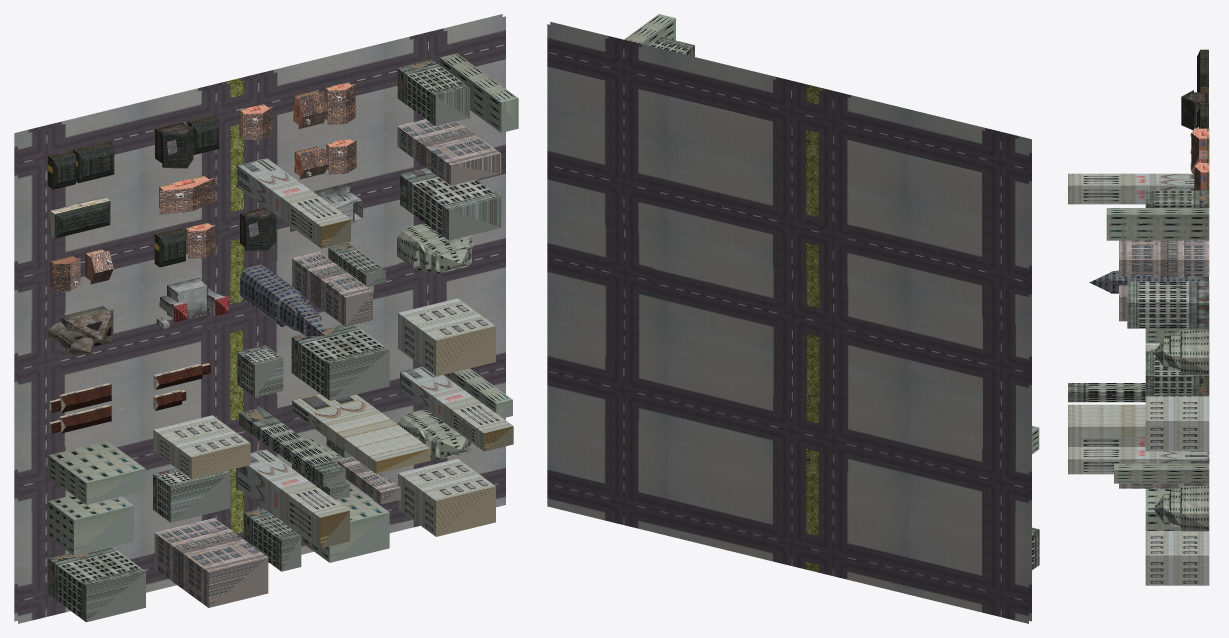
The model's file is city1test1100p_wtf.obj.
3 views of the same model, side by side, from view 1: azimuth 30°, elevation 25°; view 2: azimuth 150°, elevation 25°; view 3: azimuth 270°, elevation 25° (orthographic). The views are drawn at different scales.
Parts seen in each view (by area): view 1: group2, group69, group59, group3, group71, group72, group74, group75, group18, group5, group19, group58 (+39 smaller); view 2: group166, group2, group17; view 3: group18, group71, group72, group17, group5, group19, group58, group59, group57, group62, group74, group139 (+14 smaller).
Boxes of the visible parts, x1,y1,x2,y2 form: group2: (18,16,505,623); group69: (154,518,268,607); group59: (292,393,430,473); group3: (236,449,349,548); group71: (398,298,495,376); group72: (398,458,495,536); group74: (291,324,389,400); group75: (48,547,145,622); group18: (400,168,501,240); group5: (237,158,350,248); group19: (397,119,501,185); group58: (400,366,513,451); group166: (547,24,1028,623); group2: (550,22,1031,621); group17: (624,14,675,45); group18: (1127,281,1209,328); group71: (1145,396,1209,451); group72: (1145,531,1209,585); group17: (1106,208,1209,240); group5: (1068,173,1194,204); group19: (1119,240,1209,276); group58: (1068,447,1209,474); group59: (1068,404,1145,436); group57: (1114,463,1209,483); group62: (1163,486,1208,531); group74: (1145,351,1209,396); group139: (1163,330,1208,375).
Bounding box in the file's own units: 660 × 631 × 205.
